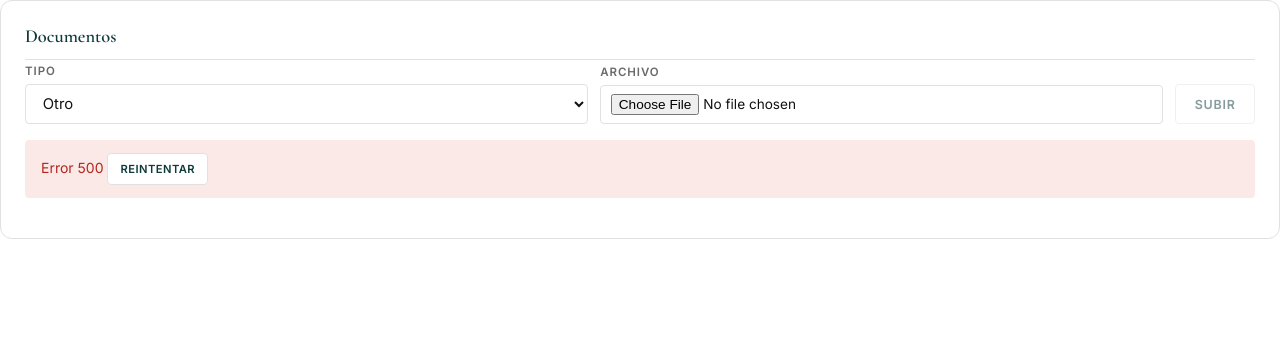
Scenario: error al cargar ofrece reintentar
Expected: the message shows "Error 500", [41,159,104,176]
Click the button "Reintentar": click(158, 169) [108,153,208,185]
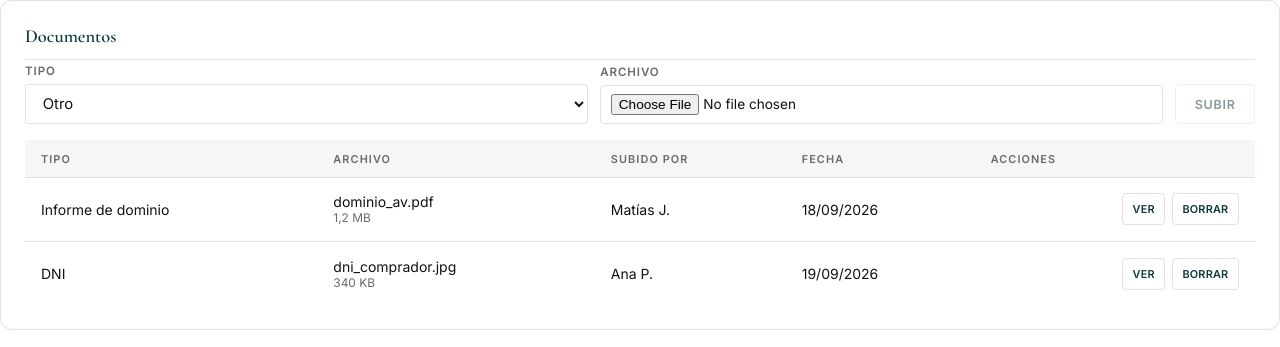
Expected: the text "dominio_av.pdf" is shown, [333,193,434,210]
